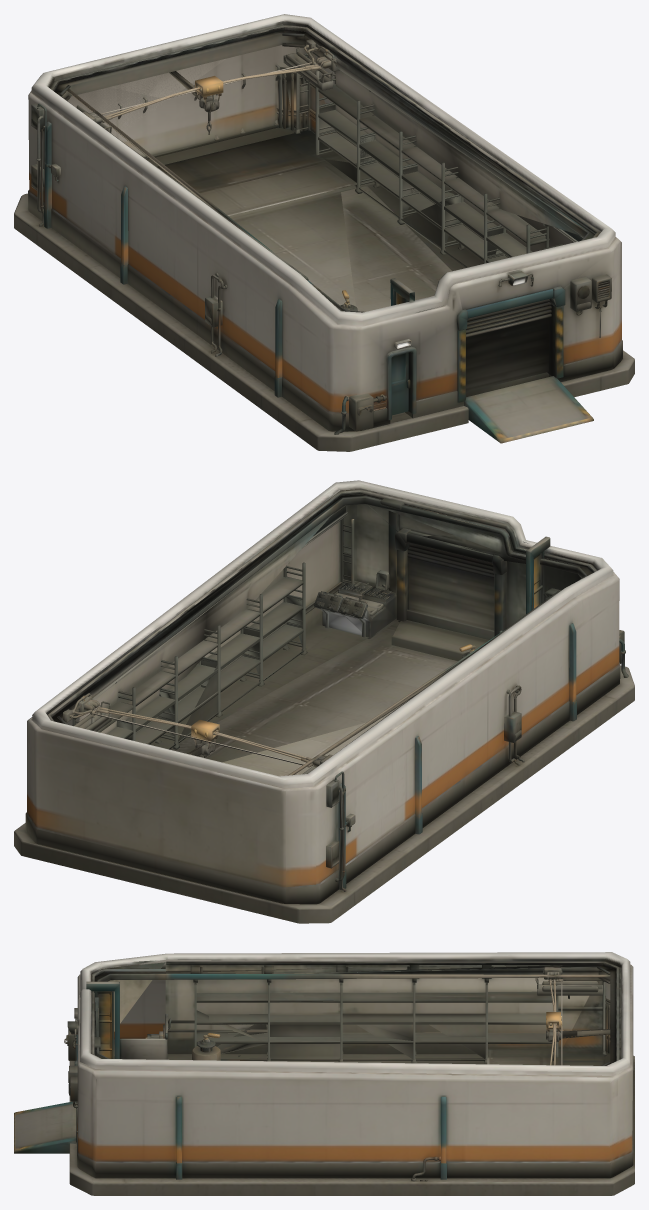
The model's file is basis_lager_werkstatt_01.glb.
3 views of the same model, one above another, from view 1: azimuth 30°, elevation 25°; view 2: azimuth 150°, elevation 25°; view 3: azimuth 270°, elevation 25° (orthographic). The views are drawn at different scales.
Visible parts, largest first — view 1: basis_lager_werkstatt_01; view 2: basis_lager_werkstatt_01; view 3: basis_lager_werkstatt_01.
Boxes of the visible parts, left/top/right/bottom form: basis_lager_werkstatt_01: left=14, top=14, right=634, bottom=451; basis_lager_werkstatt_01: left=14, top=480, right=634, bottom=923; basis_lager_werkstatt_01: left=14, top=952, right=634, bottom=1195.
Size of the model in its own units: 8.09 by 3.62 by 16.
Materials: 1 (1 with a texture image).
